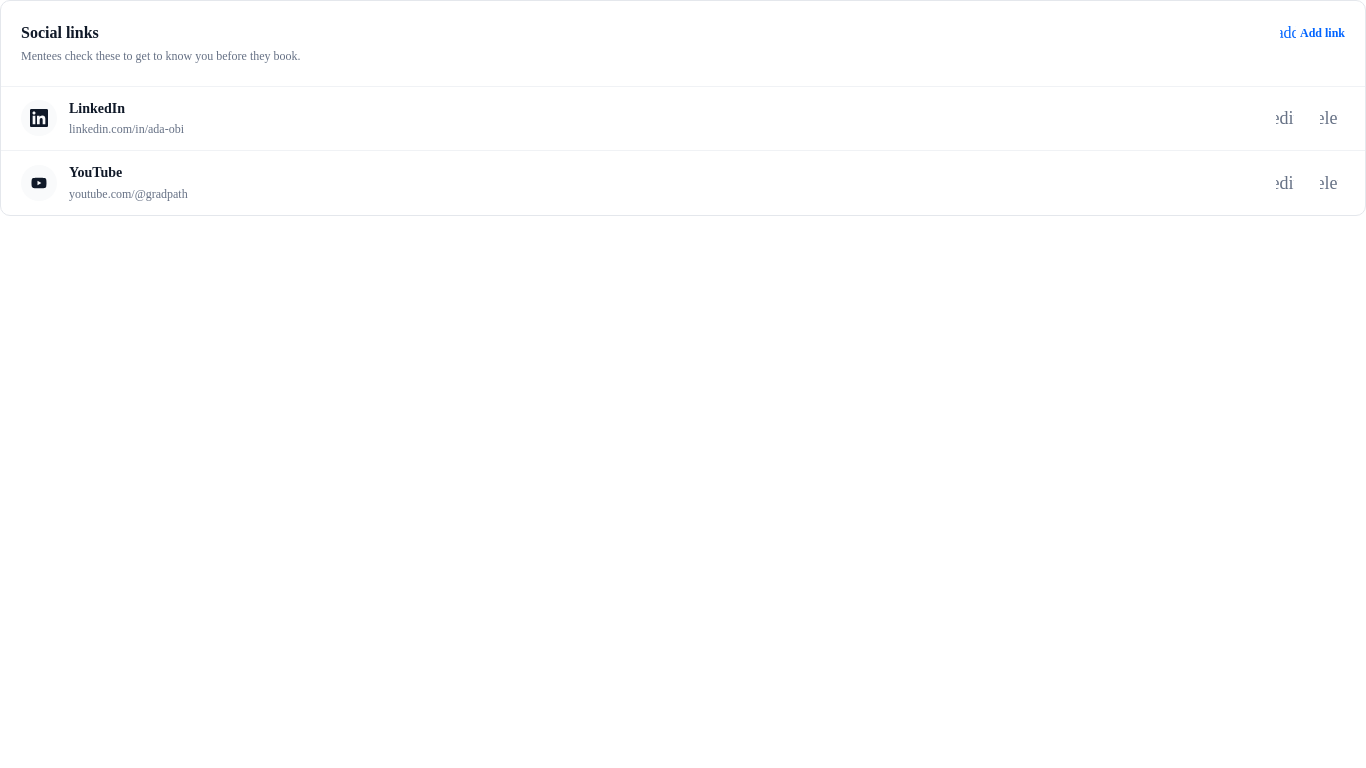
it: LinksPanel › LinkedIn edits and removes like any other link (no review lock)
Click the button with aria-label "Edit LinkedIn" at (1285, 118), box [1269,102,1301,134]
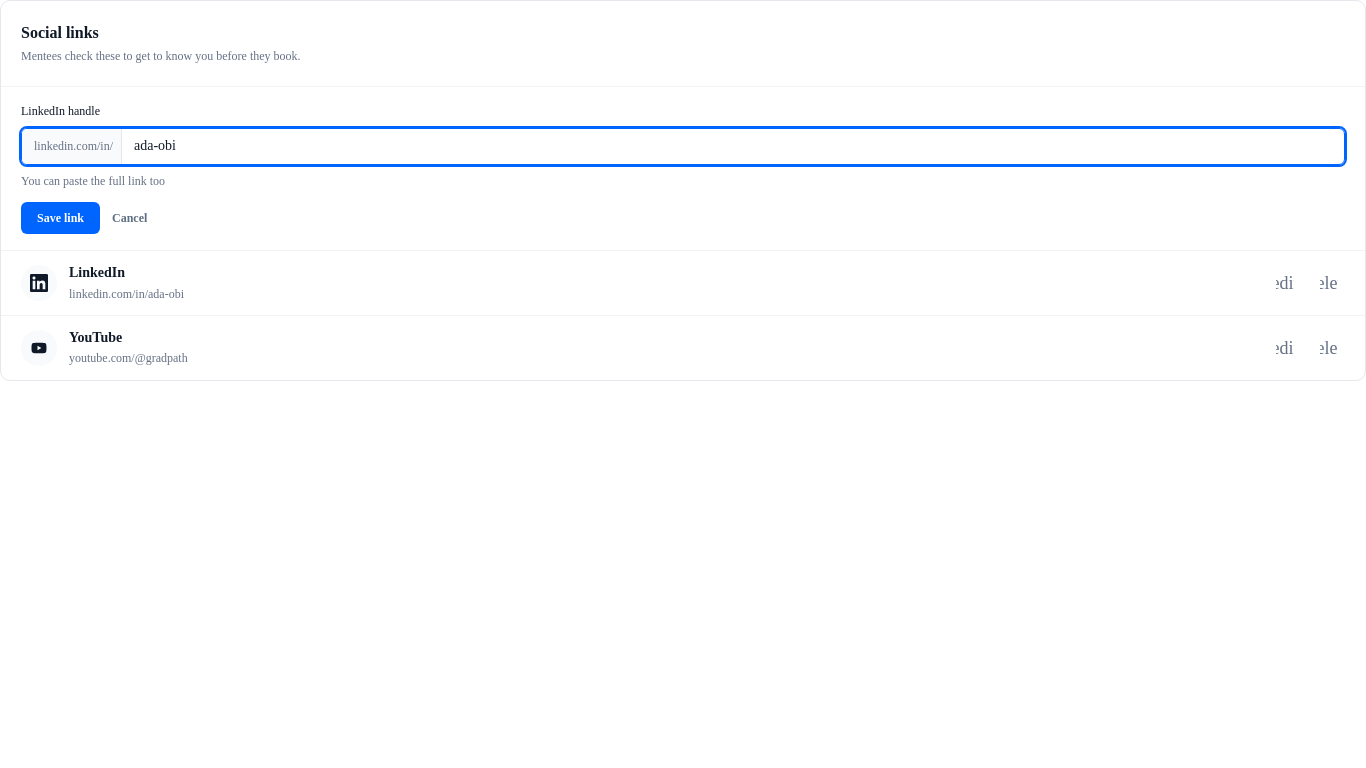
Click the button "Save link" at (60, 218), box [21,202,100,234]
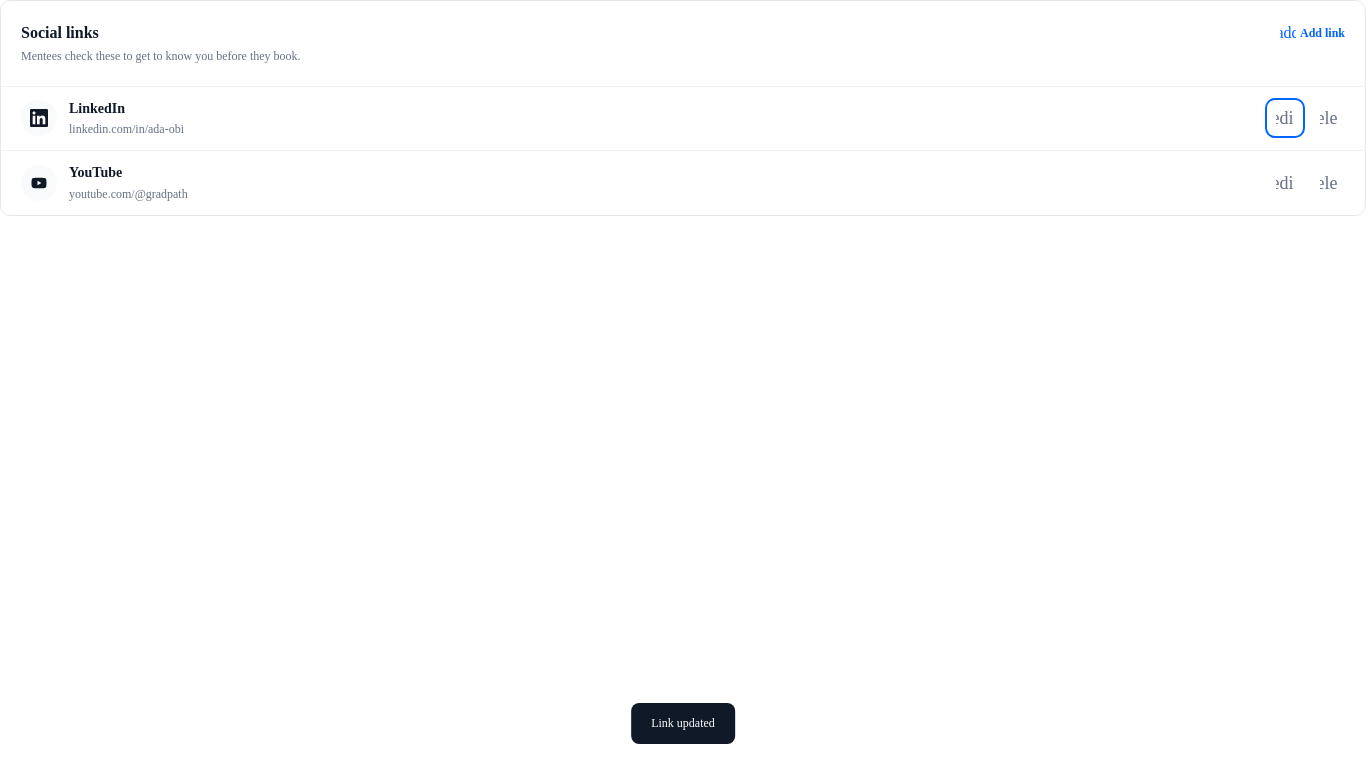
expect the text "Link updated" is shown: met, box [631,703,735,744]
Click the button with aria-label "Remove LinkedIn" at (1329, 118), box [1313,102,1345,134]
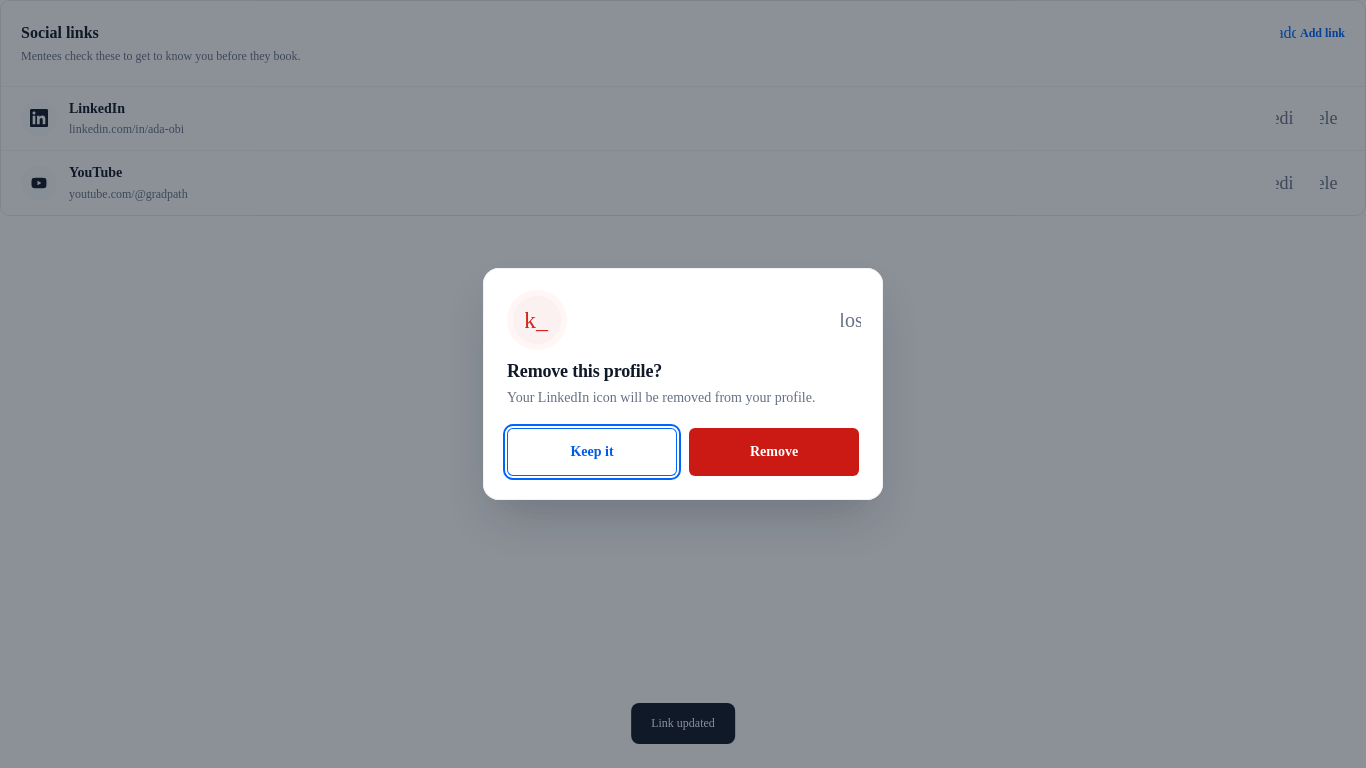
expect the dialog "Remove this profile?" is shown: met, box [483,268,883,500]
